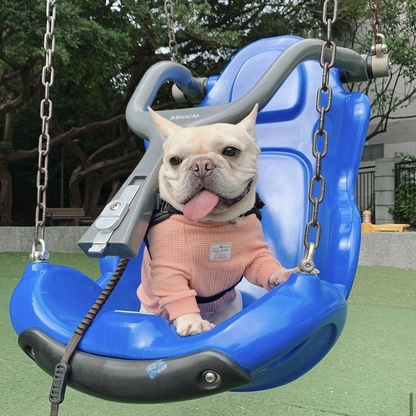bulldog: (135, 101, 319, 341)
